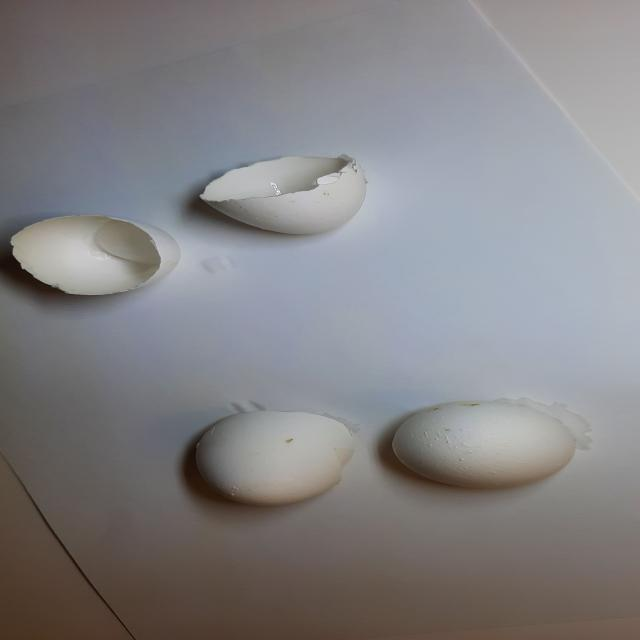egg shell: (165, 394, 368, 516), (372, 397, 592, 501), (168, 141, 393, 242), (0, 204, 192, 306)
